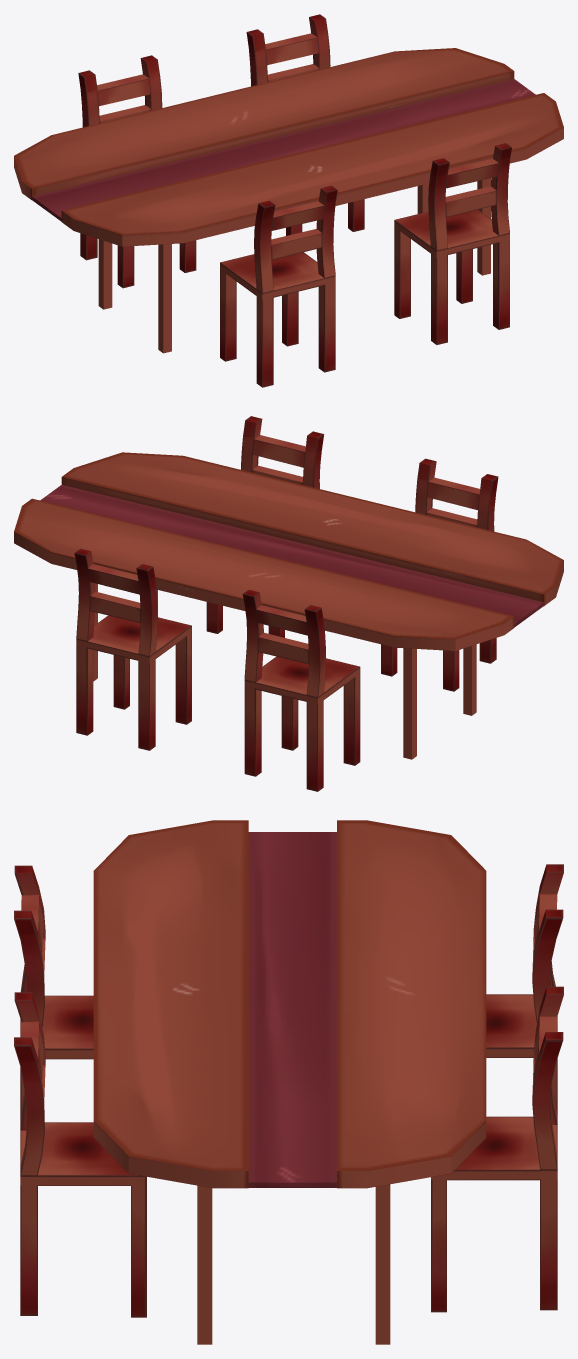
File: DinnerTable.fbx
3 views of the same model, one above another, from view 1: azimuth 30°, elevation 25°; view 2: azimuth 150°, elevation 25°; view 3: azimuth 270°, elevation 25° (orthographic). The views are drawn at different scales.
Parts seen in each view (by area): view 1: DinnerTableCombo; view 2: DinnerTableCombo; view 3: DinnerTableCombo.
Part boxes in pixels (box(x1,y1,x2,y2)): DinnerTableCombo: box(14, 14, 563, 387); DinnerTableCombo: box(14, 416, 563, 791); DinnerTableCombo: box(14, 820, 563, 1344).
Size of the model in its own units: 56.06 by 20.29 by 37.16.
